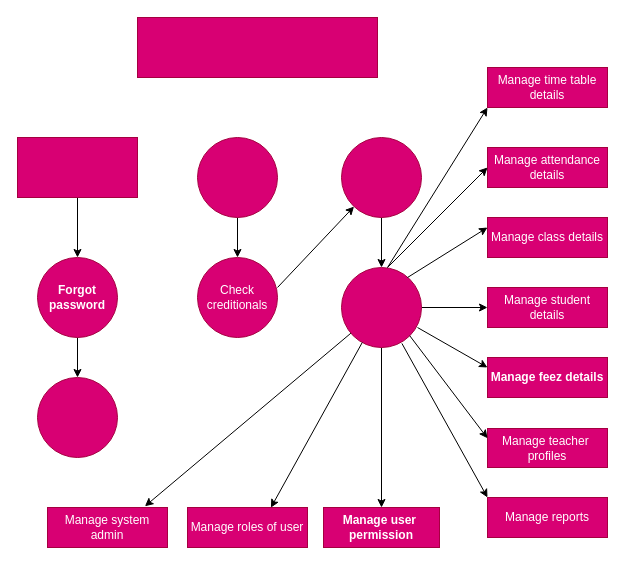
This 625x565 diagram has some shape labels left out. The centre of each missing label's shape, as x and y in pixels:
Admin: the point at 77,167
Check roles of access: the point at 381,177
Login to systems: the point at 237,177
Manage modules: the point at 381,307
Sent mail to user: the point at 77,417
STUDENT INFORMATION SYSTEM: the point at 257,47
